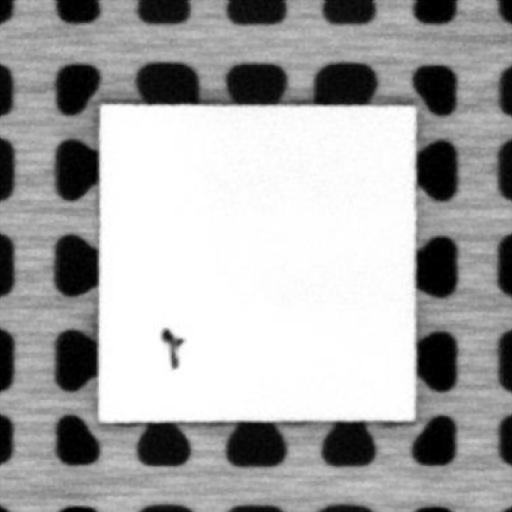DIE_INK: (156, 324, 184, 370)
